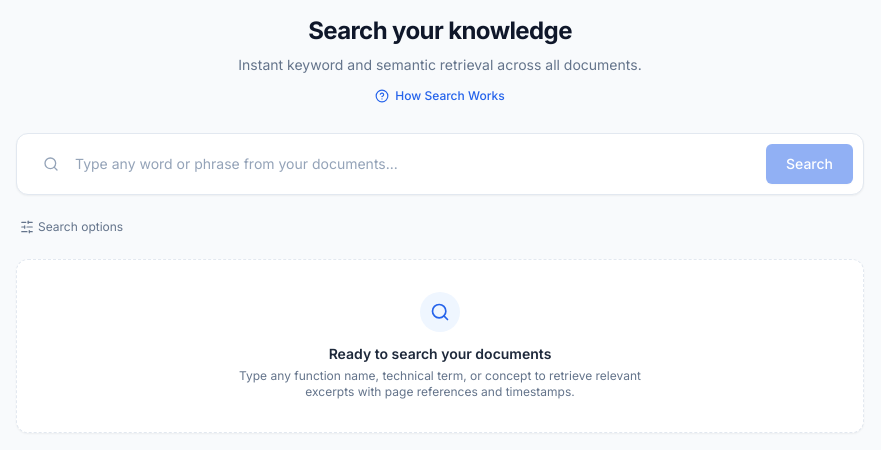
Test: SearchPage Component › renders search input, executes search, and displays results
The width and height of the screenshot is (881, 450).
Expected: the heading "Search your knowledge" is shown, [308,16,572,45]
Type "write-ahead log" into the field with placeholder "Type any word or phrase from your documents..." at (392, 164), box [27,144,758,184]
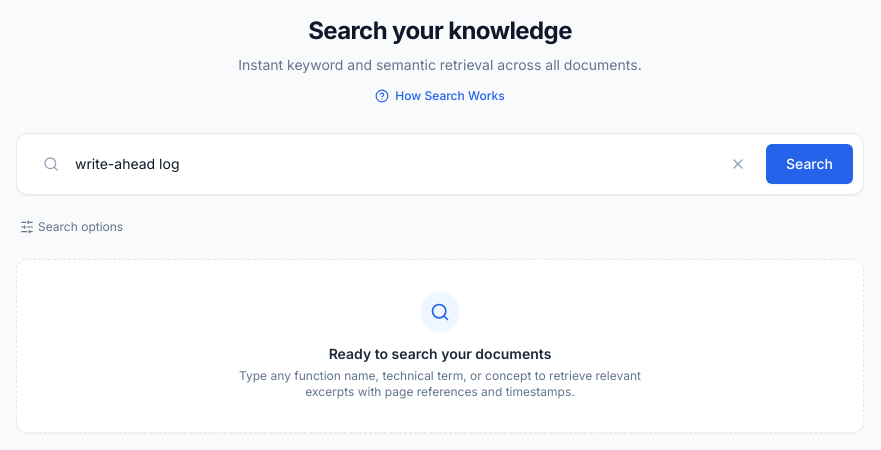
Click the button "Search" at (810, 164), box [766,144,853,184]
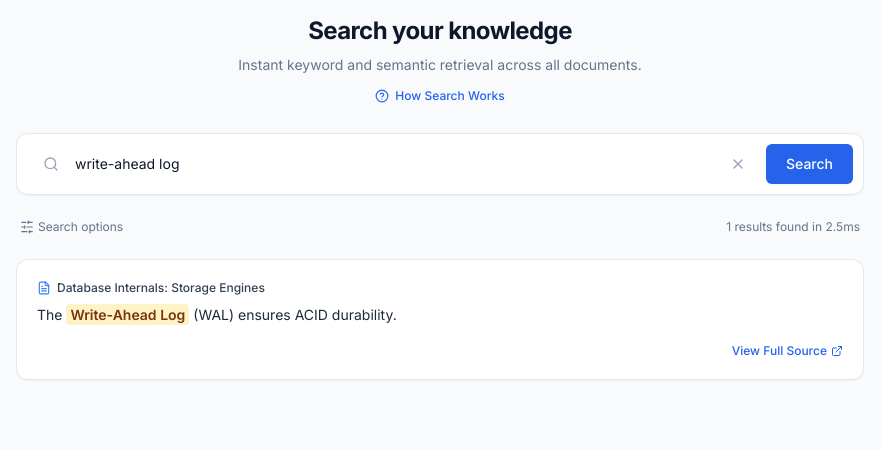
Result: the text "Database Internals: Storage Engines" is shown at [57,280,265,296]
Result: the text "Write-Ahead Log" is shown at [66,304,189,325]
Result: the text "(WAL) ensures ACID durability." is shown at [189,306,397,323]
